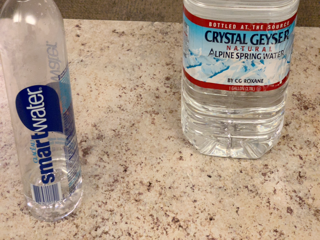Obstacle: (175, 0, 302, 158), (1, 1, 91, 216)
